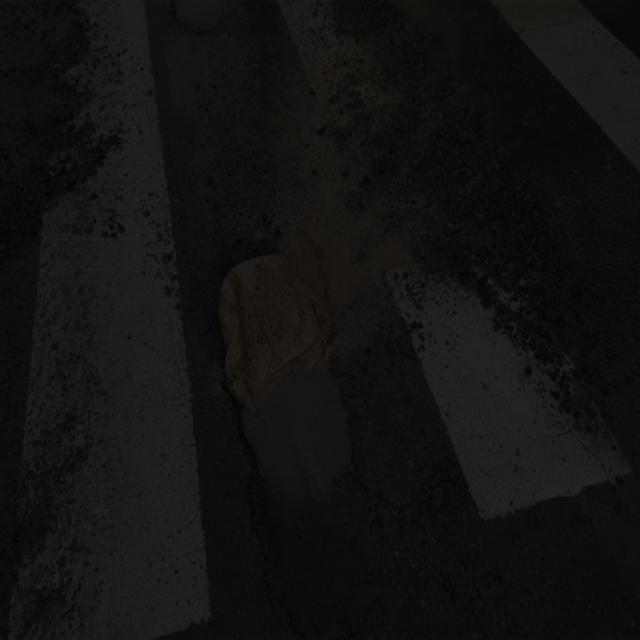pothole: (217, 176, 380, 554)
